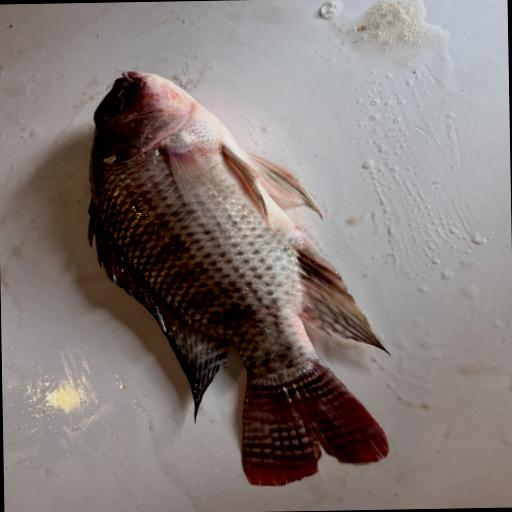Tilapia: (85, 66, 394, 490)
